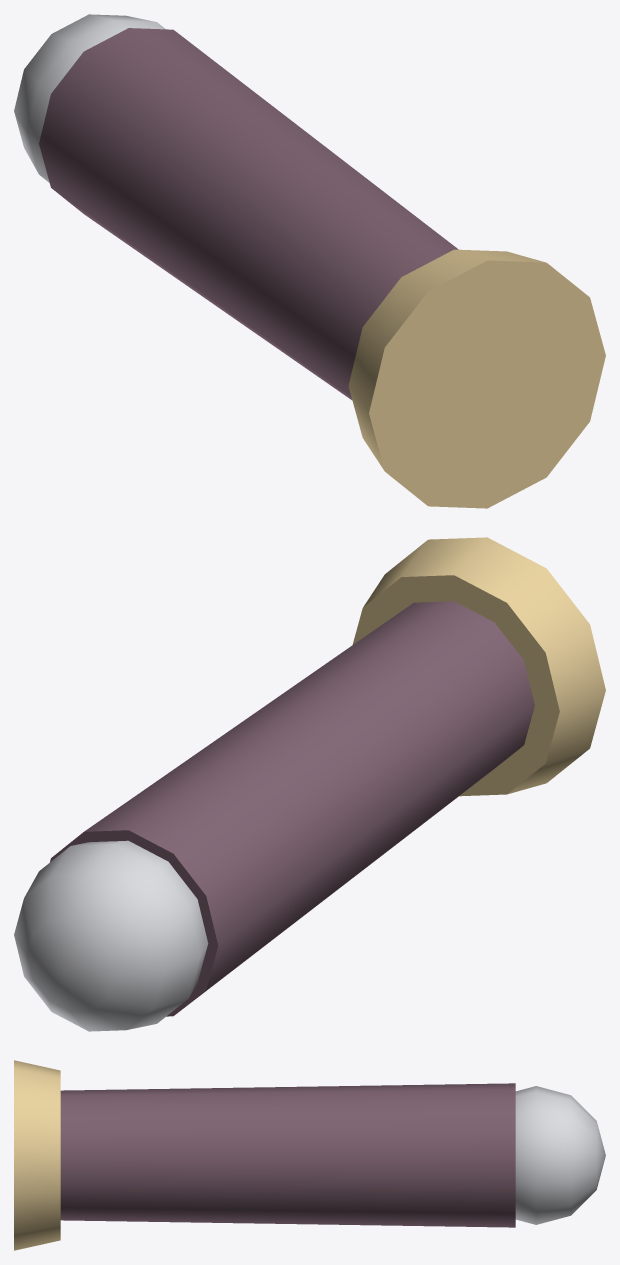
Rendered from kaizen_left.glb.
3 views of the same model, one above another, from view 1: azimuth 30°, elevation 25°; view 2: azimuth 150°, elevation 25°; view 3: azimuth 270°, elevation 25° (orthographic). The views are drawn at different scales.
Visible parts, largest first — view 1: kaizen_left; view 2: kaizen_left; view 3: kaizen_left.
Part boxes in pixels (box(x1,y1,x2,y2)): kaizen_left: box(14, 14, 605, 508); kaizen_left: box(14, 537, 605, 1031); kaizen_left: box(14, 1060, 605, 1250).
Size of the model in its own units: 0.074 by 0.074 by 0.229.
